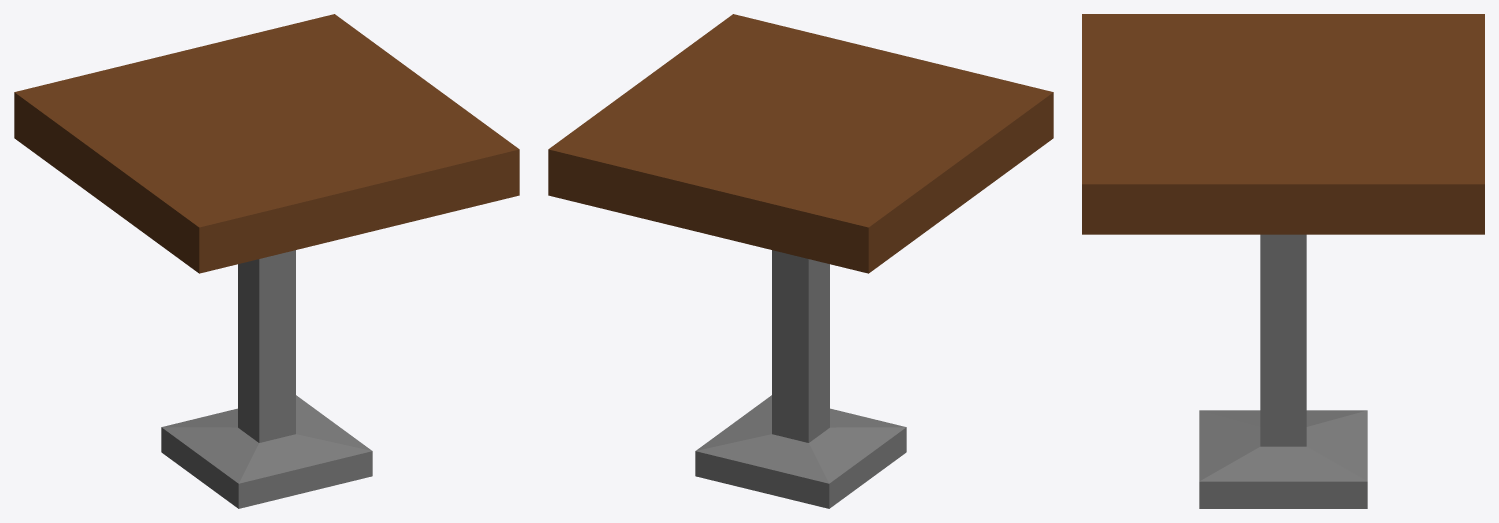
Rendered from table.glb.
3 views of the same model, side by side, from view 1: azimuth 30°, elevation 25°; view 2: azimuth 150°, elevation 25°; view 3: azimuth 270°, elevation 25° (orthographic). The views are drawn at different scales.
Visible parts, largest first — view 1: Cube; view 2: Cube; view 3: Cube.
Boxes of the visible parts, box(x1,y1,x2,y2) form: Cube: box(14, 14, 519, 508); Cube: box(548, 14, 1053, 508); Cube: box(1082, 14, 1484, 508).
Bounding box in the file's own units: 1.36 × 1.4 × 1.36.
